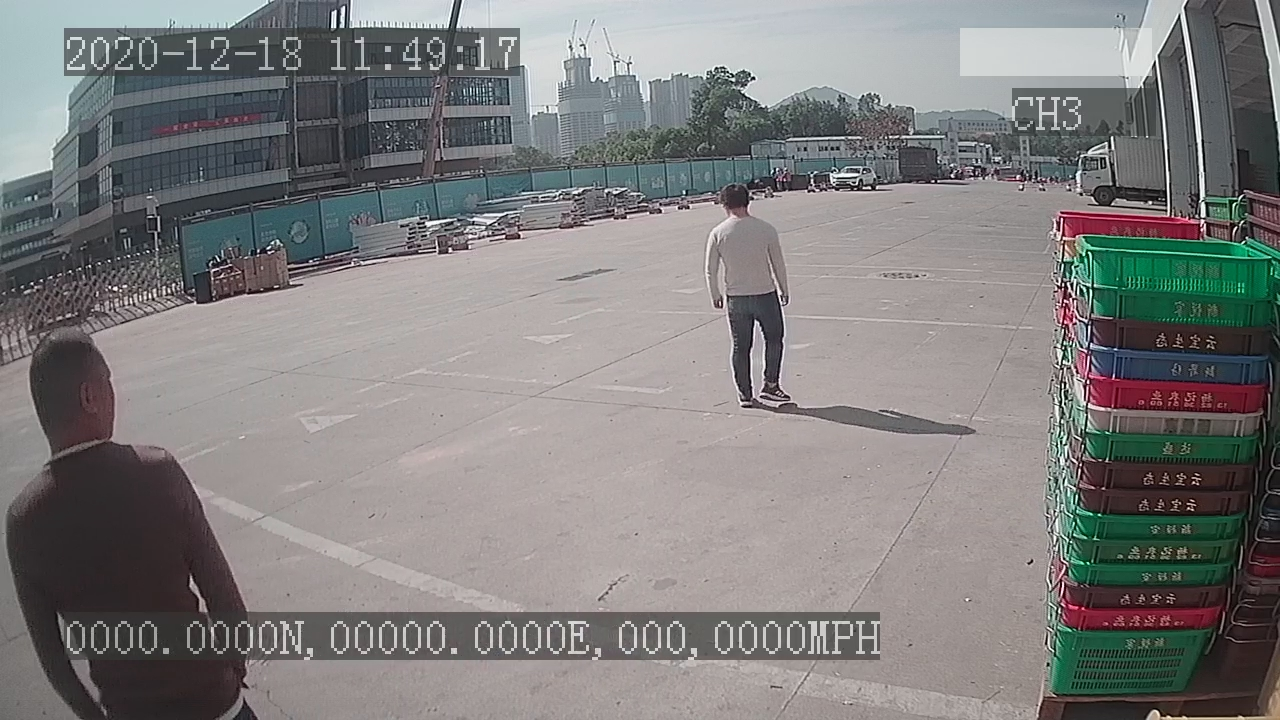person: (702, 183, 795, 411)
